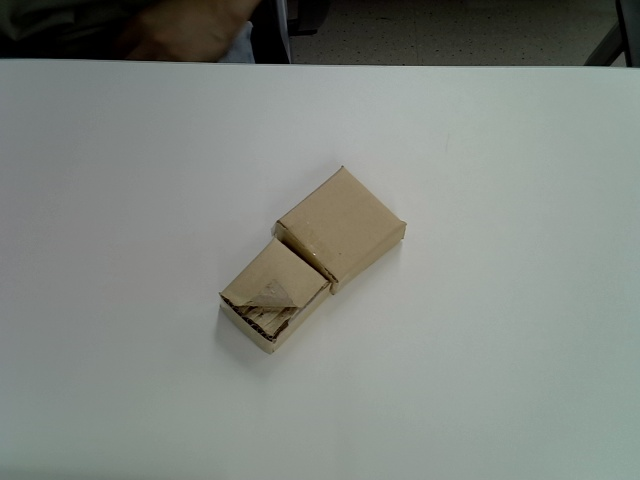defect: (218, 239, 330, 355)
normal: (273, 166, 406, 294)
